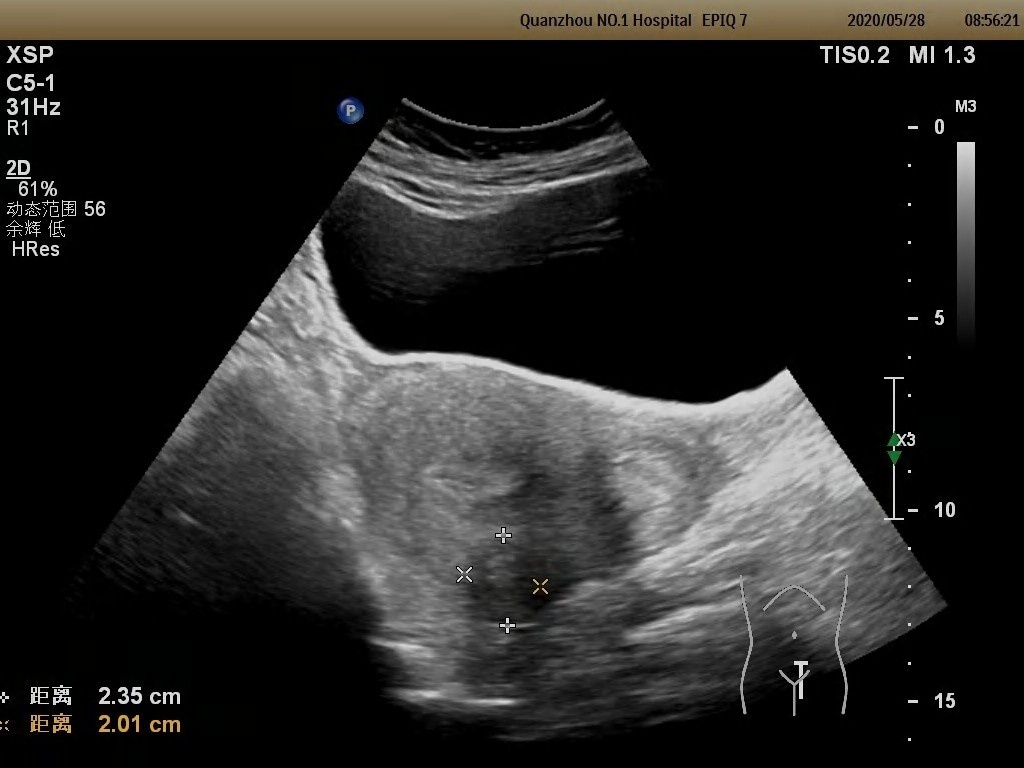肌瘤: (465, 535, 540, 627)
